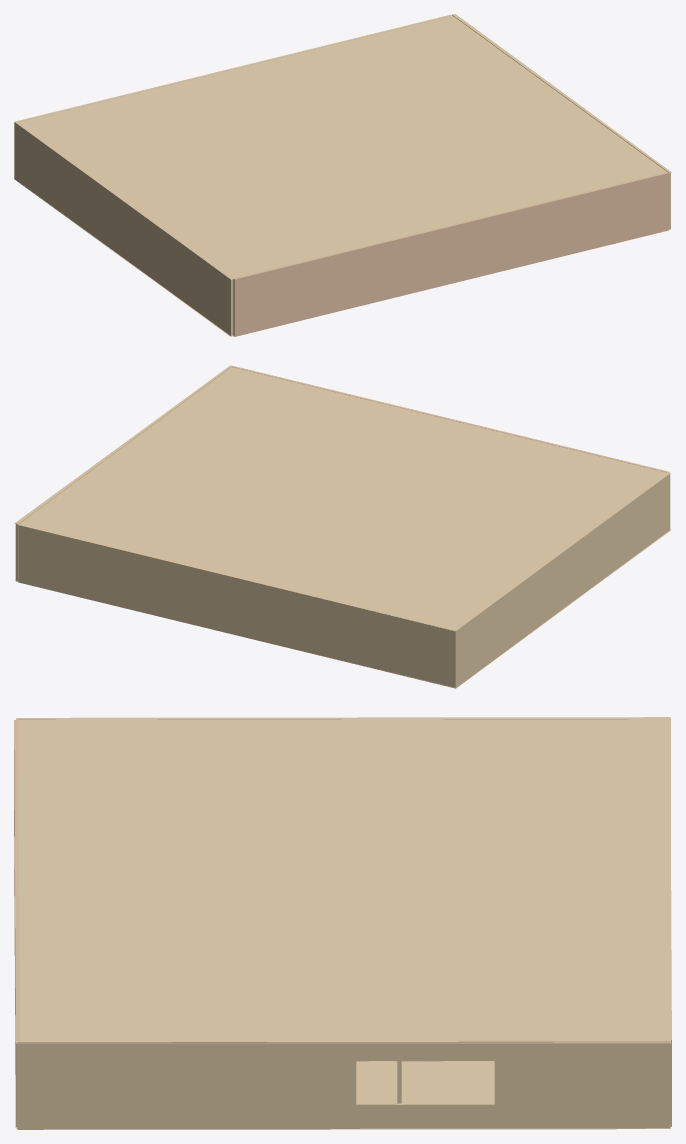
The model's file is Cat_room_v002 (1).fbx.
3 renders of one model, top to bottom at view 1: azimuth 30°, elevation 25°; view 2: azimuth 150°, elevation 25°; view 3: azimuth 270°, elevation 25°, orthographic. The views are drawn at different scales.
Visible parts, largest first — view 1: Ceiling, Back_Wall, Left_wall, Front_wall, Right_wall; view 2: Ceiling, Front_wall, Left_wall, Right_wall, Back_Wall; view 3: Ceiling, Right_wall, Ground, Back_Wall, Left_wall, Front_wall.
Part boxes in pixels (x1=…): Ceiling: x1=18, y1=14, x2=671, y2=279; Back_Wall: x1=233, y1=172, x2=668, y2=336; Left_wall: x1=14, y1=121, x2=233, y2=336; Front_wall: x1=17, y1=14, x2=451, y2=122; Right_wall: x1=452, y1=14, x2=670, y2=229; Ceiling: x1=14, y1=366, x2=670, y2=631; Front_wall: x1=18, y1=524, x2=454, y2=687; Left_wall: x1=453, y1=472, x2=670, y2=688; Right_wall: x1=15, y1=365, x2=232, y2=581; Back_Wall: x1=232, y1=366, x2=668, y2=472; Ceiling: x1=16, y1=718, x2=670, y2=1043; Right_wall: x1=17, y1=1039, x2=670, y2=1129; Ground: x1=16, y1=1061, x2=670, y2=1128; Back_Wall: x1=14, y1=720, x2=19, y2=1127; Left_wall: x1=17, y1=717, x2=670, y2=719; Front_wall: x1=666, y1=719, x2=671, y2=1126.
Size of the model in its own units: 4910 by 614 by 4187.
